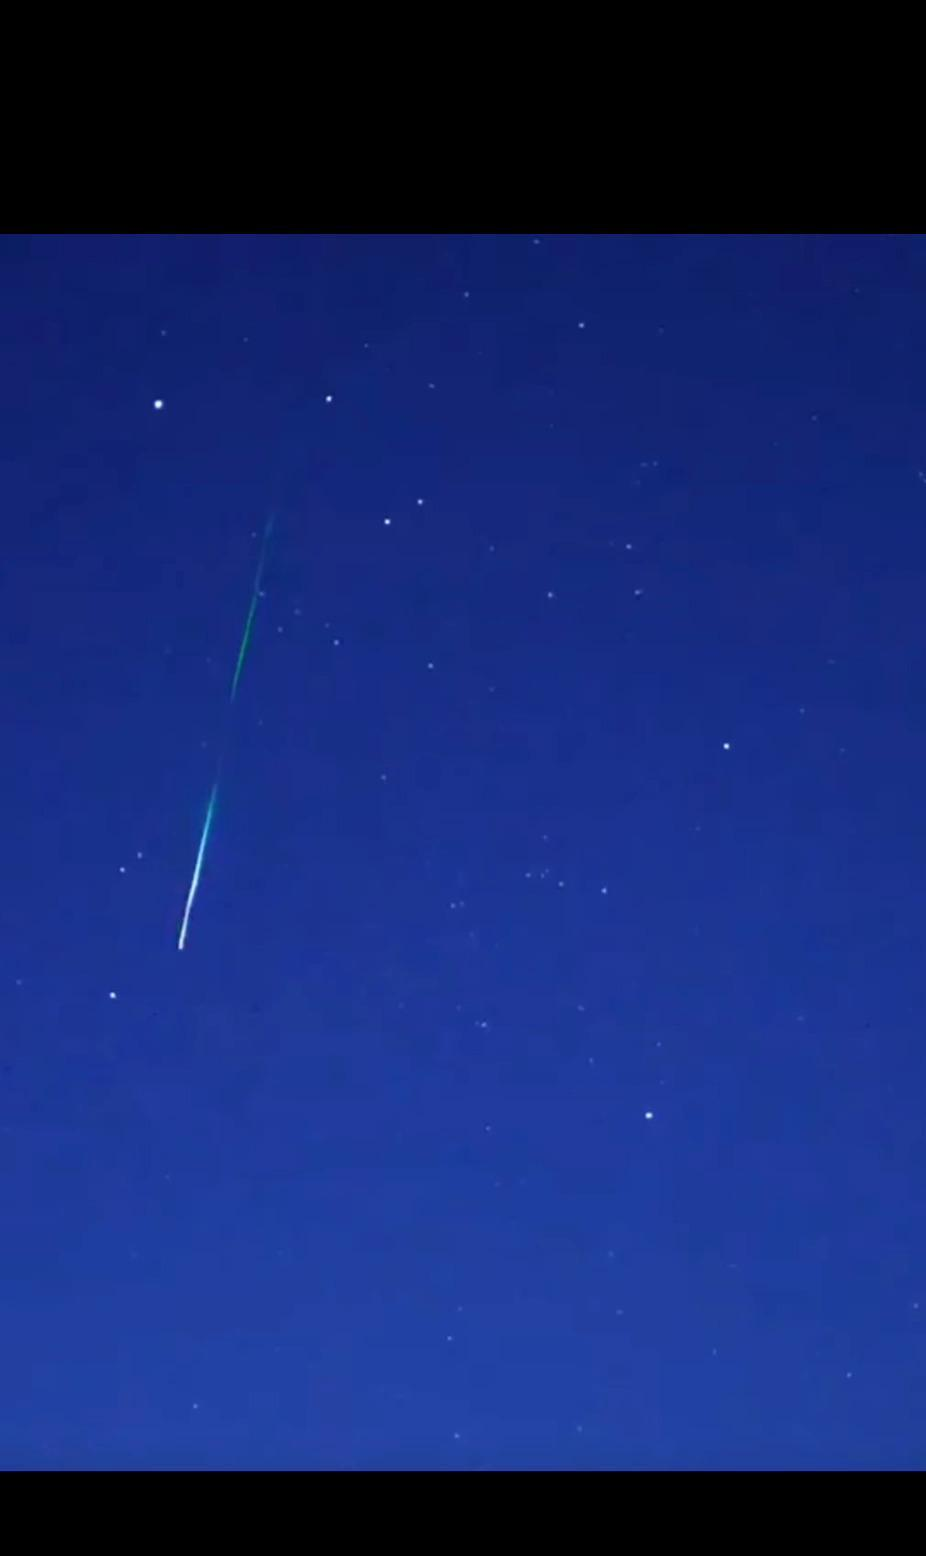meteorite: (153, 533, 291, 961)
